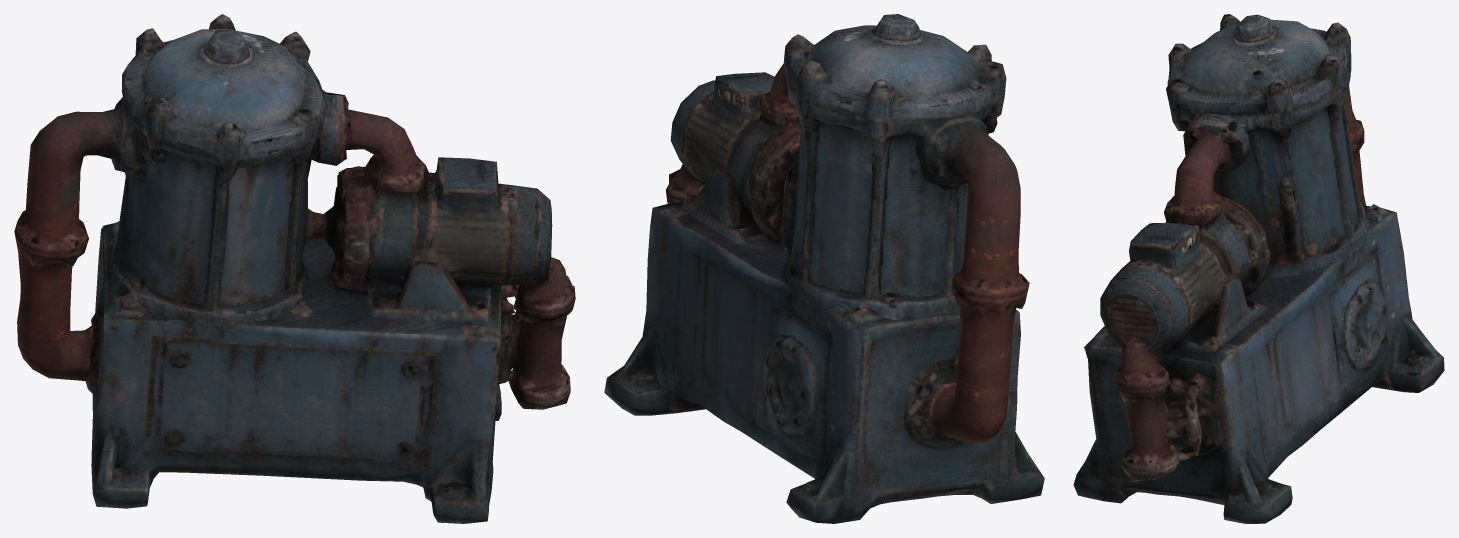
Rendered from bunker_filtration_pump_raw.glb.
The picture shows the model from 3 angles, left to right: view 1: azimuth 30°, elevation 25°; view 2: azimuth 150°, elevation 25°; view 3: azimuth 270°, elevation 25°; orthographic projection. The views are drawn at different scales.
Size of the model in its own units: 0.8698 by 0.8466 by 0.6983.
Materials: 1 (1 with a texture image).
